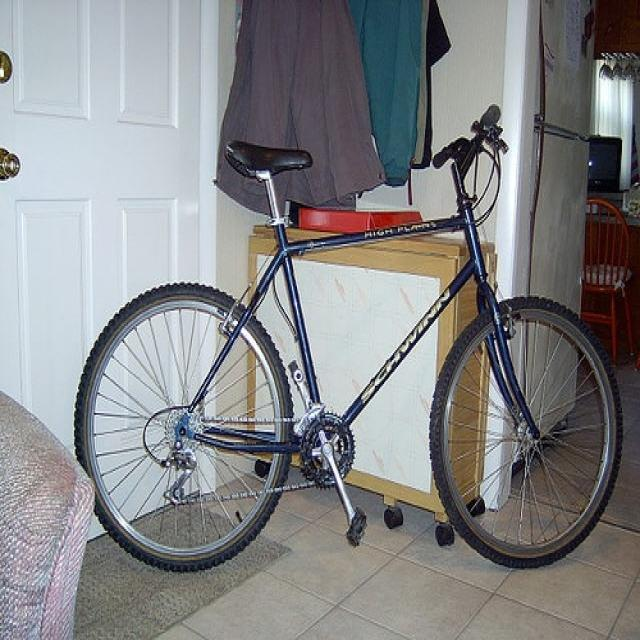bicycle: (74, 105, 623, 575)
tvmonitor: (590, 134, 623, 194)
